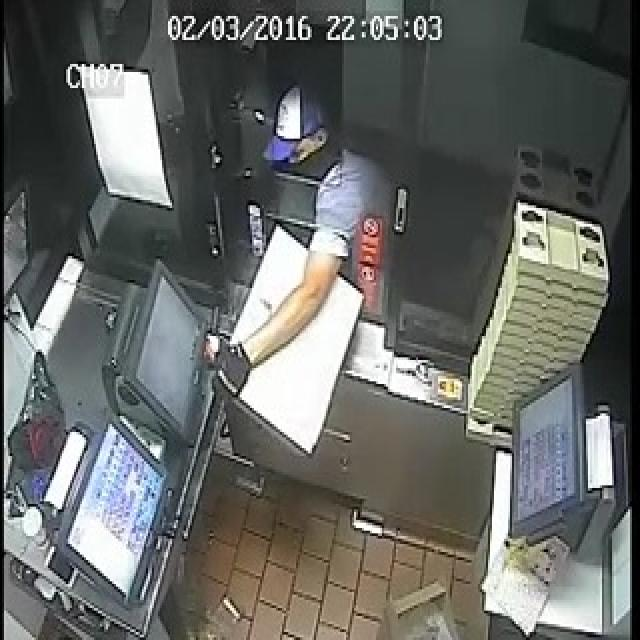thief: (251, 94, 368, 240)
